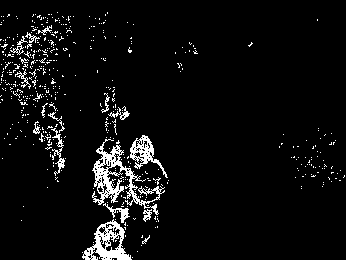person: (135, 135, 188, 239), (92, 138, 137, 229), (34, 102, 71, 184)
